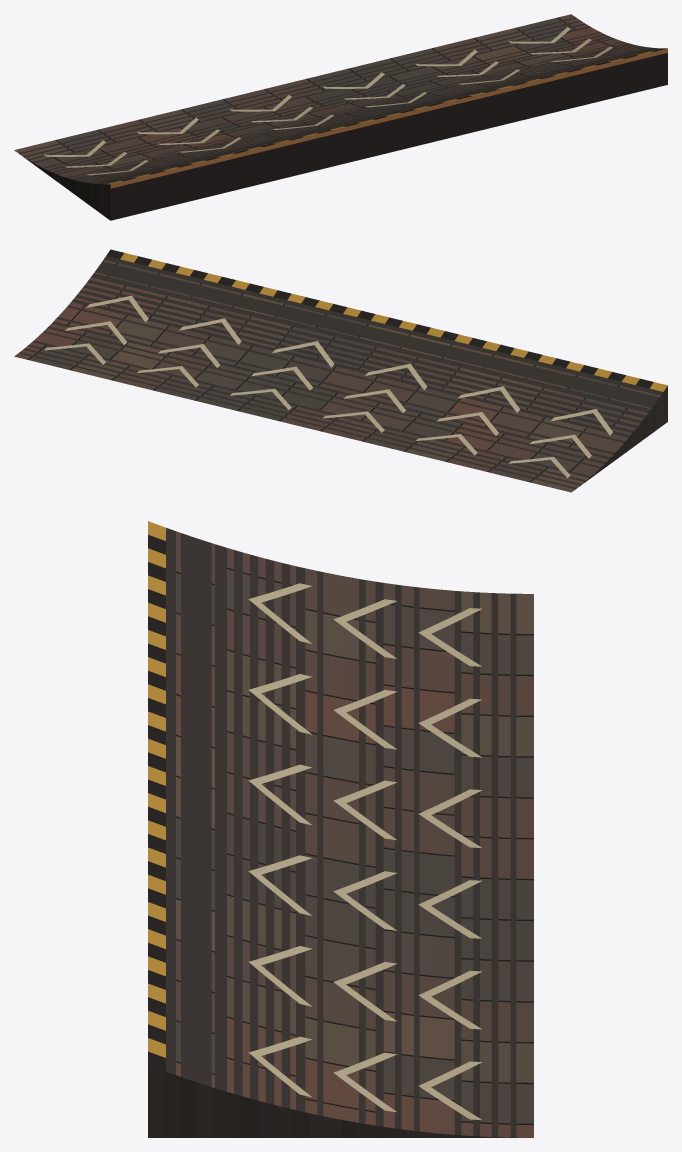
Rendered from plate_kicker_12x2p5x40.glb.
3 views of the same model, one above another, from view 1: azimuth 30°, elevation 25°; view 2: azimuth 150°, elevation 25°; view 3: azimuth 270°, elevation 25° (orthographic). The views are drawn at different scales.
Parts seen in each view (by area): view 1: plate_kicker_12x2p5x40, plate_kicker_12x2p5x40-col; view 2: plate_kicker_12x2p5x40, plate_kicker_12x2p5x40-col; view 3: plate_kicker_12x2p5x40, plate_kicker_12x2p5x40-col.
Boxes of the visible parts, left/top/right/bottom form: plate_kicker_12x2p5x40: left=14, top=14, right=667, bottom=220; plate_kicker_12x2p5x40-col: left=19, top=17, right=662, bottom=184; plate_kicker_12x2p5x40: left=14, top=249, right=667, bottom=492; plate_kicker_12x2p5x40-col: left=19, top=256, right=662, bottom=488; plate_kicker_12x2p5x40: left=148, top=521, right=533, bottom=1137; plate_kicker_12x2p5x40-col: left=166, top=528, right=518, bottom=1137.
Bounding box in the file's own units: 40 × 2.5 × 12.
